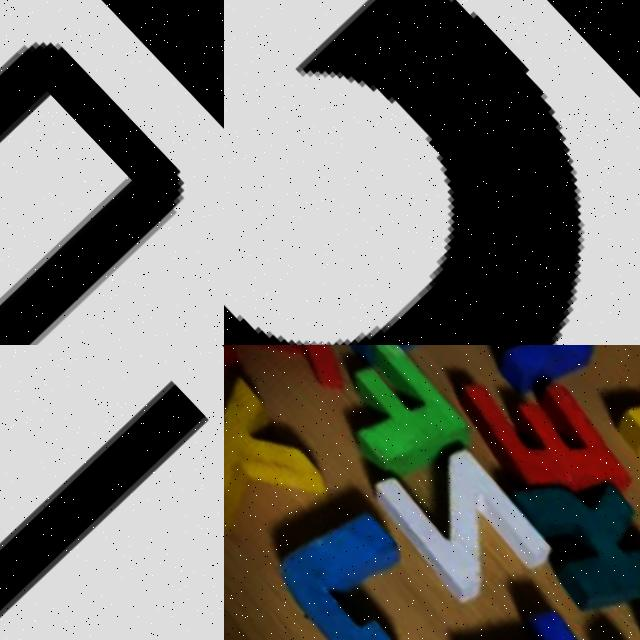C: (224, 0, 576, 345)
E: (444, 345, 640, 529)
F: (311, 345, 474, 492)
G: (0, 0, 209, 345)
I: (0, 375, 208, 613), (224, 345, 358, 420)
J: (255, 470, 469, 640)
K: (480, 408, 640, 640)
N: (433, 345, 610, 421)
P: (287, 345, 452, 381)
R: (611, 351, 640, 527)
T: (425, 566, 640, 640)
X: (224, 345, 331, 559)
Z: (361, 418, 554, 619)
